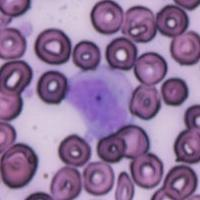M: (64, 72, 130, 136)
